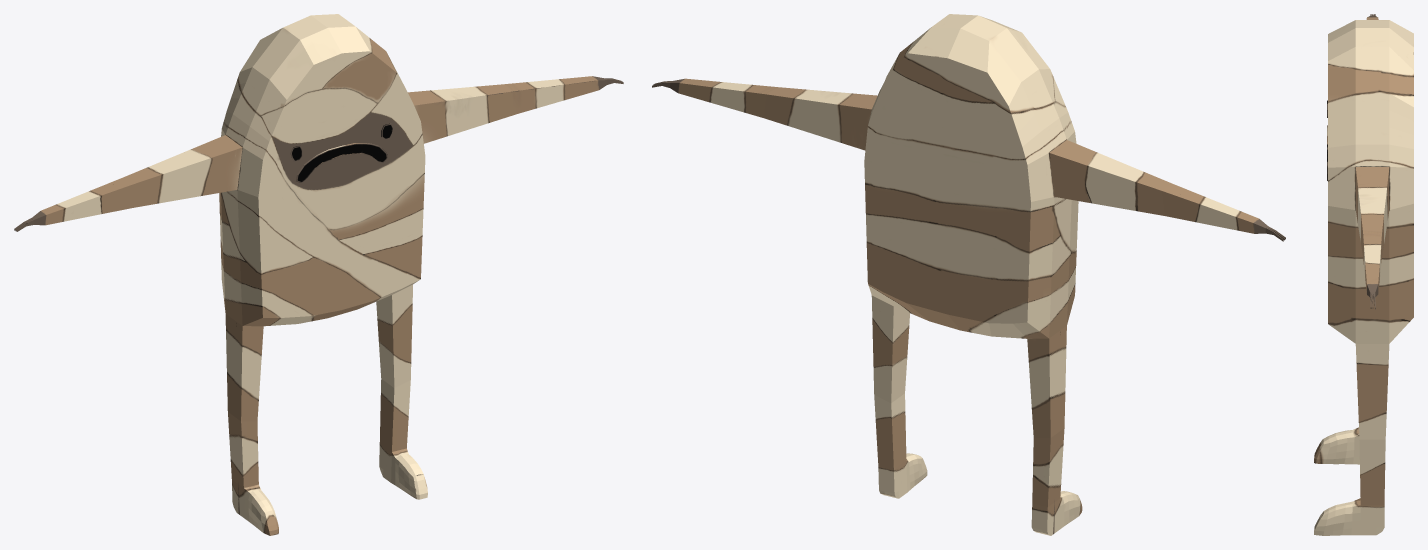
The model's file is Fummy.fbx.
3 renders of one model, left to right at view 1: azimuth 30°, elevation 25°; view 2: azimuth 150°, elevation 25°; view 3: azimuth 270°, elevation 25°, orthographic. The views are drawn at different scales.
Parts seen in each view (by area): view 1: Cube; view 2: Cube; view 3: Cube.
Part boxes in pixels (x1=…): Cube: x1=14, y1=14, x2=623, y2=535; Cube: x1=652, y1=14, x2=1285, y2=535; Cube: x1=1314, y1=14, x2=1413, y2=535.
Size of the model in its own units: 378 by 282 by 54.31.
Materials: 1 (1 with a texture image).
